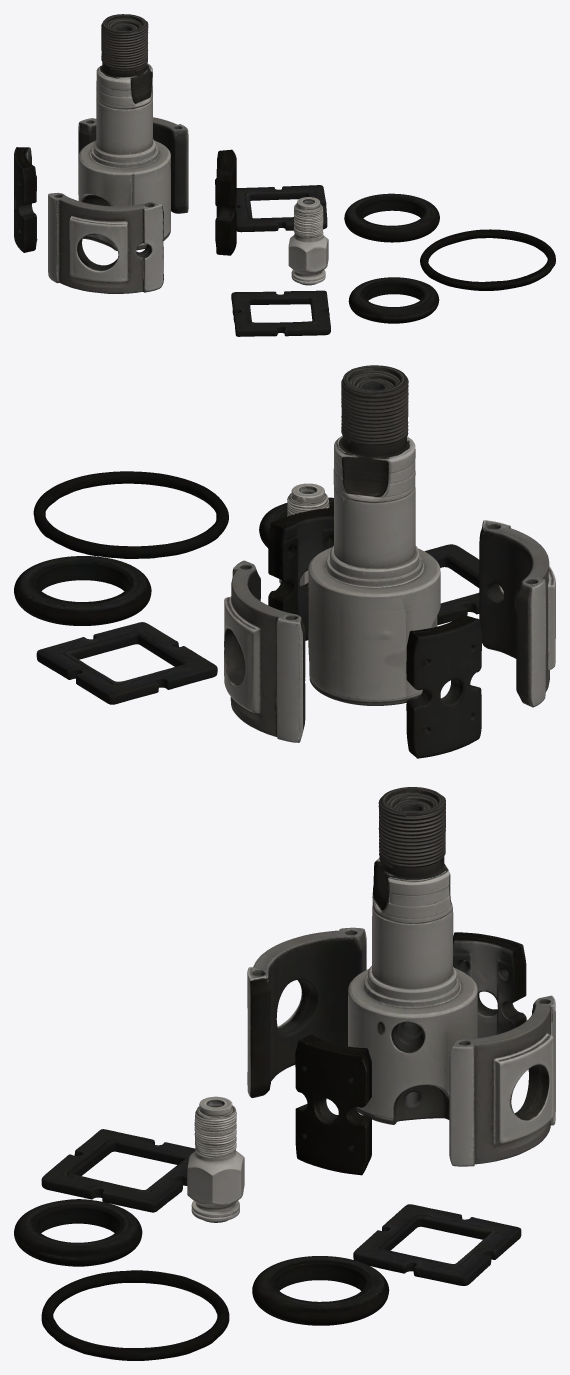
File: valvulaTaponDRT.glb
The picture shows the model from 3 angles, top to bottom: view 1: azimuth 30°, elevation 25°; view 2: azimuth 150°, elevation 25°; view 3: azimuth 270°, elevation 25°; orthographic projection. The views are drawn at different scales.
Visible parts, largest first — view 1: tripo_node_622fbae5-6ac7-4c86-810c-9f95e7b81a68; view 2: tripo_node_622fbae5-6ac7-4c86-810c-9f95e7b81a68; view 3: tripo_node_622fbae5-6ac7-4c86-810c-9f95e7b81a68.
Boxes of the visible parts, <box> form: tripo_node_622fbae5-6ac7-4c86-810c-9f95e7b81a68: <box>14,14,555,336</box>; tripo_node_622fbae5-6ac7-4c86-810c-9f95e7b81a68: <box>14,365,555,758</box>; tripo_node_622fbae5-6ac7-4c86-810c-9f95e7b81a68: <box>14,787,555,1360</box>.
Bounding box in the file's own units: 0.9784 × 0.5238 × 0.7648.
Materials: 1 (1 with a texture image).
